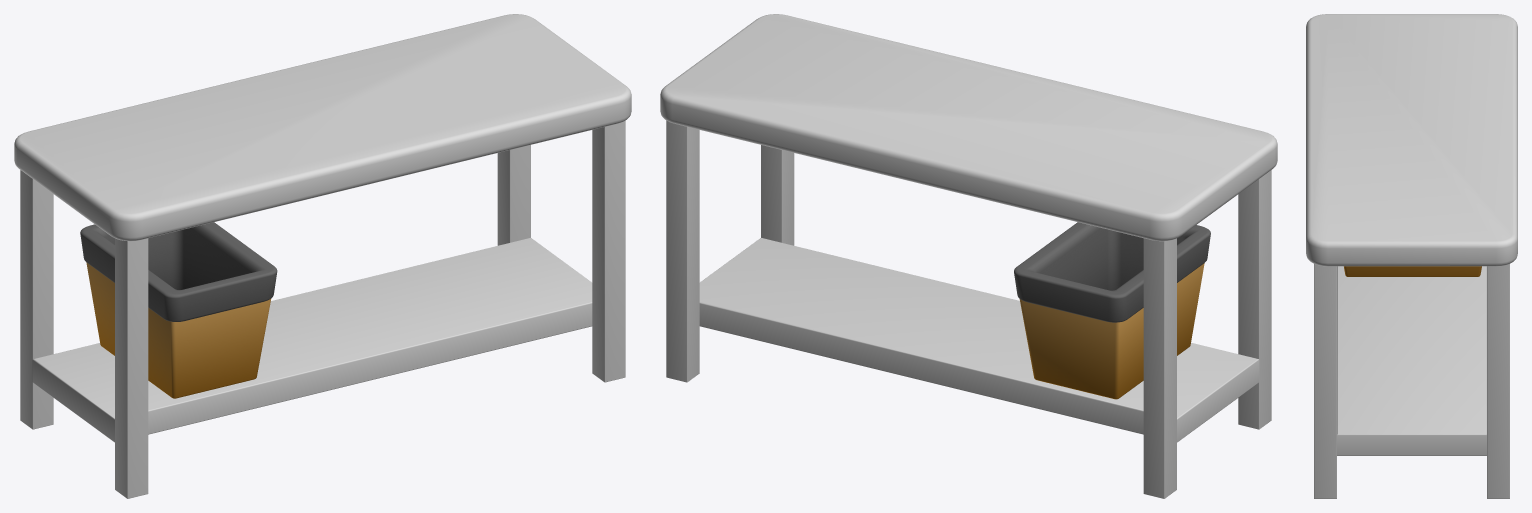
File: trash.fbx
The picture shows the model from 3 angles, left to right: view 1: azimuth 30°, elevation 25°; view 2: azimuth 150°, elevation 25°; view 3: azimuth 270°, elevation 25°; orthographic projection. The views are drawn at different scales.
Parts seen in each view (by area): view 1: Attempt 1, Cube; view 2: Attempt 1, Cube; view 3: Attempt 1, Cube.
Part boxes in pixels (x1=…): Attempt 1: x1=14, y1=14, x2=631, y2=498; Cube: x1=80, y1=222, x2=277, y2=398; Attempt 1: x1=660, y1=14, x2=1277, y2=498; Cube: x1=1014, y1=222, x2=1210, y2=399; Attempt 1: x1=1306, y1=14, x2=1517, y2=498; Cube: x1=1344, y1=266, x2=1481, y2=276.
Size of the model in its own units: 200 by 105 by 77.41.
Materials: 1 (1 with a texture image).
